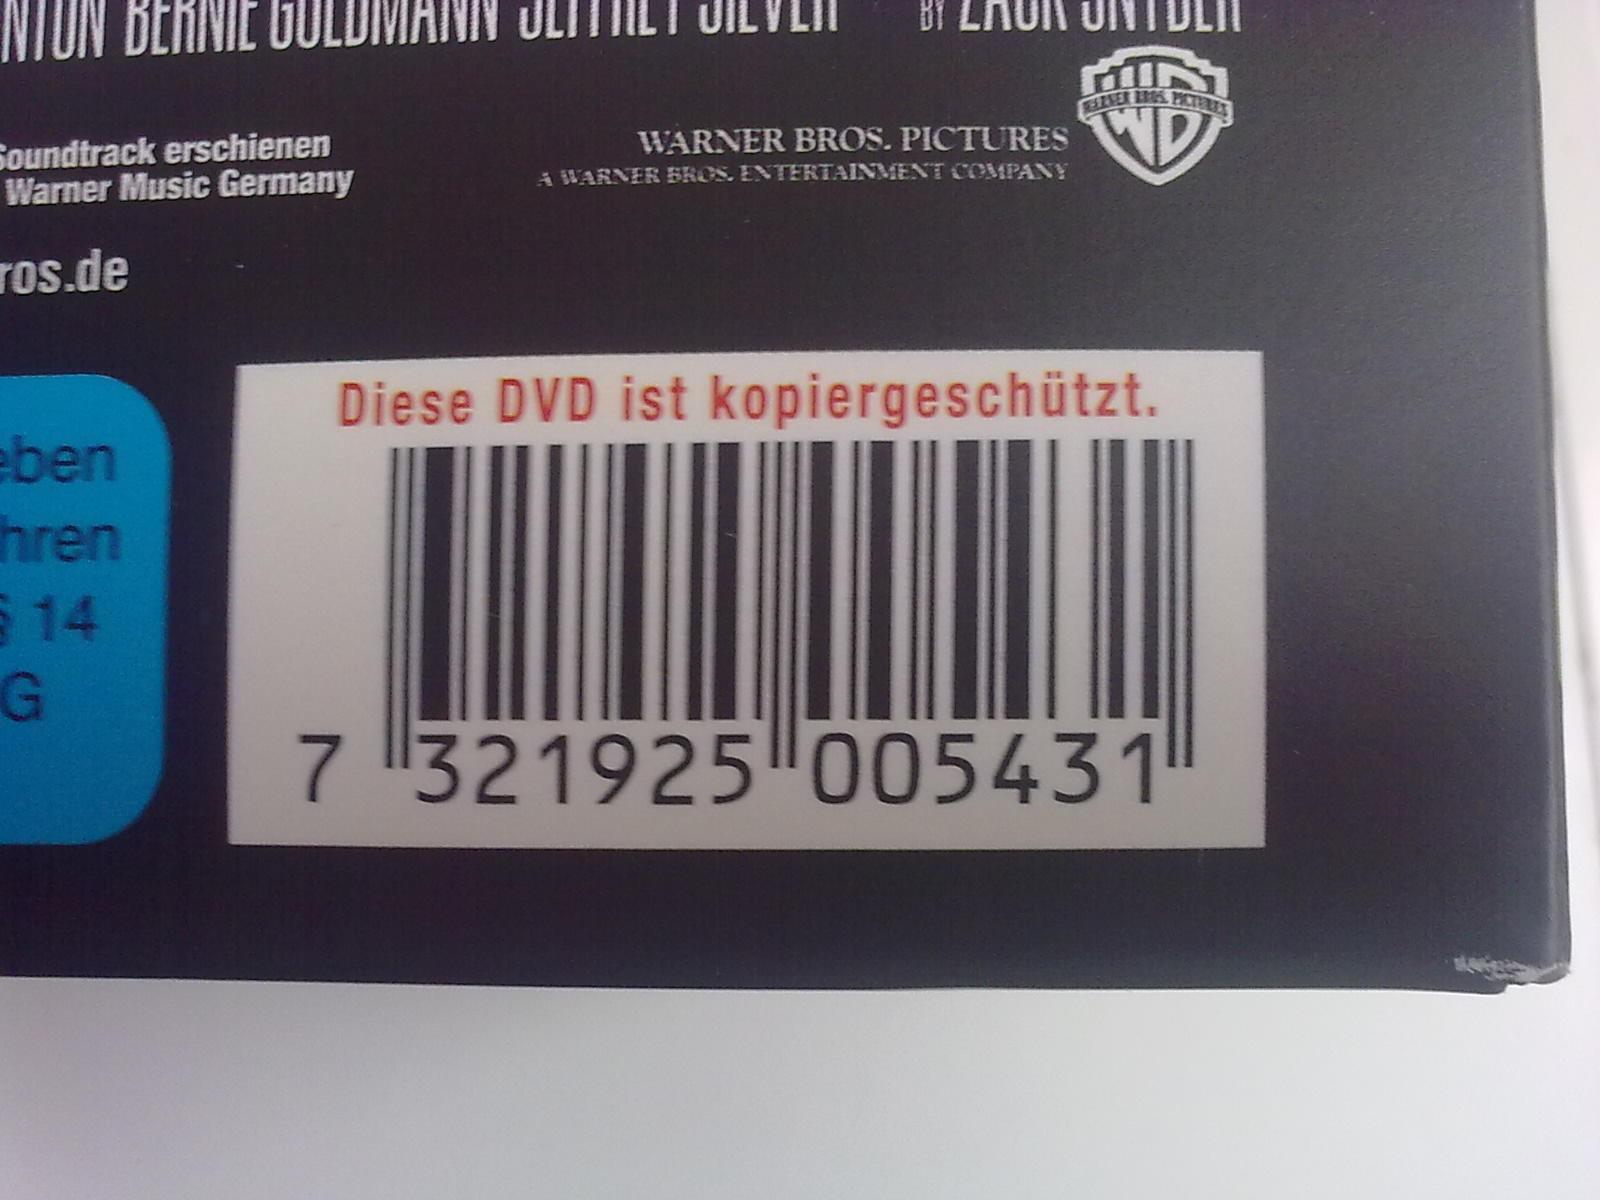Barcode: (289, 424, 1204, 824)
